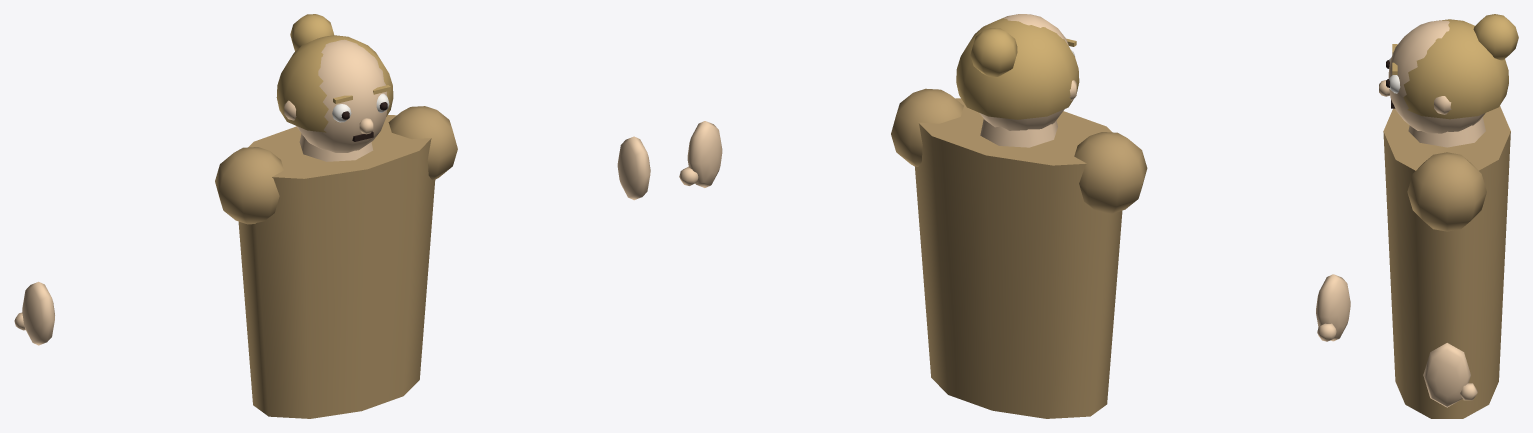
File: avatar-sand.glb
3 renders of one model, left to right at view 1: azimuth 30°, elevation 25°; view 2: azimuth 150°, elevation 25°; view 3: azimuth 270°, elevation 25°, orthographic. The views are drawn at different scales.
Visible parts, largest first — view 1: Torso, Skull, ShoulderR, Hair, ShoulderL, HandL, HandR, HairBun, Collar; view 2: Torso, Hair, ShoulderR, ShoulderL, HairBun, HandL, HandR, Skull, Collar; view 3: Torso, Hair, ShoulderL, Skull, HandL, HairBun, Collar, EarL, HandL_Thumb, EyeL.
Part boxes in pixels (x1,y1,x2,y2): Torso: (238,115,435,418); Skull: (296,39,386,152); ShoulderR: (215,147,283,224); Hair: (276,35,393,132); ShoulderL: (388,106,457,180); HandL: (617,136,650,200); HandR: (22,281,54,345); HairBun: (290,14,333,51); Collar: (299,133,373,161); Torso: (915,98,1122,418); Hair: (956,17,1079,119); ShoulderR: (1074,132,1147,213); ShoulderL: (891,88,963,166); HairBun: (970,28,1017,76); HandL: (687,121,722,187); HandR: (1316,274,1350,341); Skull: (979,14,1069,130); Collar: (980,119,1057,147); Torso: (1383,106,1510,418); Hair: (1398,19,1508,119); ShoulderL: (1407,152,1486,231); Skull: (1388,20,1485,133); HandL: (1423,343,1470,407); HairBun: (1473,14,1518,60); Collar: (1408,117,1485,147); EarL: (1434,96,1451,114); HandL_Thumb: (1460,383,1477,400); EyeL: (1389,75,1400,93).
Size of the model in its own units: 1.37 by 0.759 by 0.2632.
